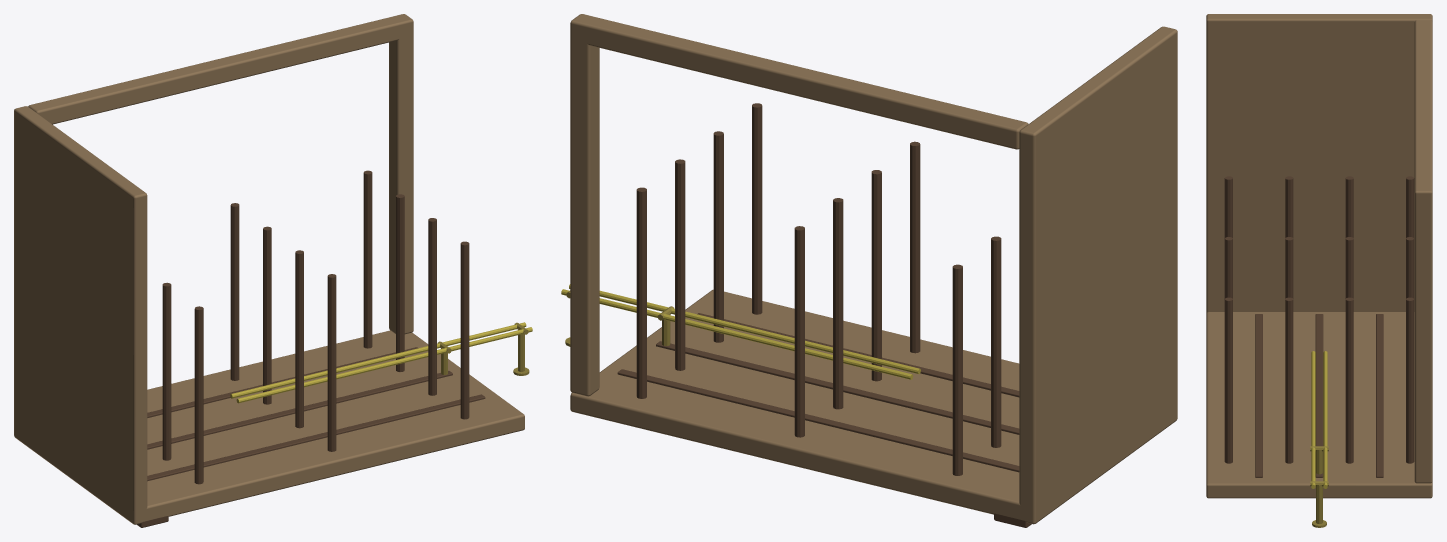
File: rack.glb
3 views of the same model, side by side, from view 1: azimuth 30°, elevation 25°; view 2: azimuth 150°, elevation 25°; view 3: azimuth 270°, elevation 25° (orthographic). The views are drawn at different scales.
Parts seen in each view (by area): view 1: Rack_EndBoard, Rack_Base, Rack, Rack_BackRail, Rack_BackPost, Rack_Rail_-1; view 2: Rack_EndBoard, Rack_Base, Rack, Rack_BackRail, Rack_BackPost, Rack_Rail_-1; view 3: Rack_EndBoard, Rack_Base, Rack, Rack_BackPost, Rack_BackRail, Rack_Rail_-1.
Part boxes in pixels (x1=…): Rack_EndBoard: x1=14, y1=106, x2=147, y2=524; Rack_Base: x1=14, y1=330, x2=524, y2=523; Rack: x1=147, y1=170, x2=528, y2=484; Rack_BackRail: x1=28, y1=15, x2=413, y2=124; Rack_BackPost: x1=389, y1=14, x2=413, y2=334; Rack_Rail_-1: x1=236, y1=327, x2=532, y2=403; Rack_EndBoard: x1=1019, y1=26, x2=1177, y2=524; Rack_Base: x1=570, y1=289, x2=1177, y2=522; Rack: x1=561, y1=103, x2=1019, y2=475; Rack_BackRail: x1=571, y1=14, x2=1028, y2=149; Rack_BackPost: x1=570, y1=14, x2=599, y2=396; Rack_Rail_-1: x1=569, y1=284, x2=920, y2=374; Rack_EndBoard: x1=1206, y1=14, x2=1432, y2=312; Rack_Base: x1=1206, y1=312, x2=1432, y2=498; Rack: x1=1224, y1=176, x2=1414, y2=523; Rack_BackPost: x1=1414, y1=185, x2=1432, y2=483; Rack_BackRail: x1=1414, y1=20, x2=1432, y2=205; Rack_Rail_-1: x1=1311, y1=351, x2=1315, y2=488.
Size of the model in its own units: 0.65 by 0.456 by 0.3.
